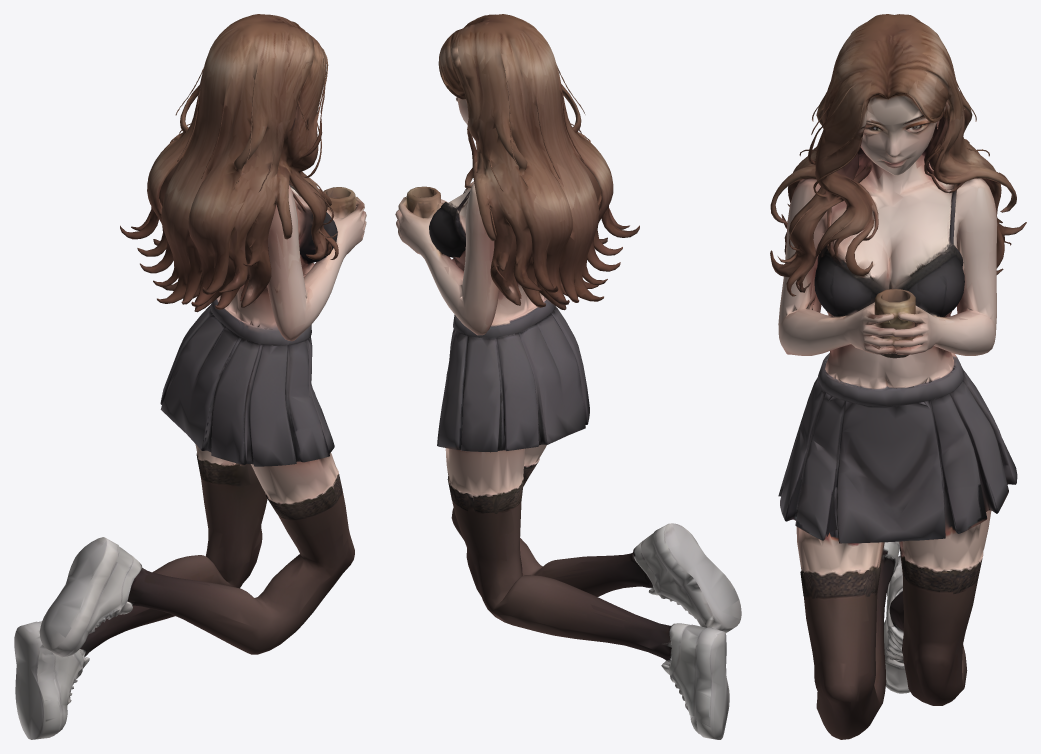
File: pole_chill.glb
3 renders of one model, left to right at view 1: azimuth 30°, elevation 25°; view 2: azimuth 150°, elevation 25°; view 3: azimuth 270°, elevation 25°, orthographic. The views are drawn at different scales.
Size of the model in its own units: 0.7228 by 1.4 by 0.4101.
1 material, 1 textured.
